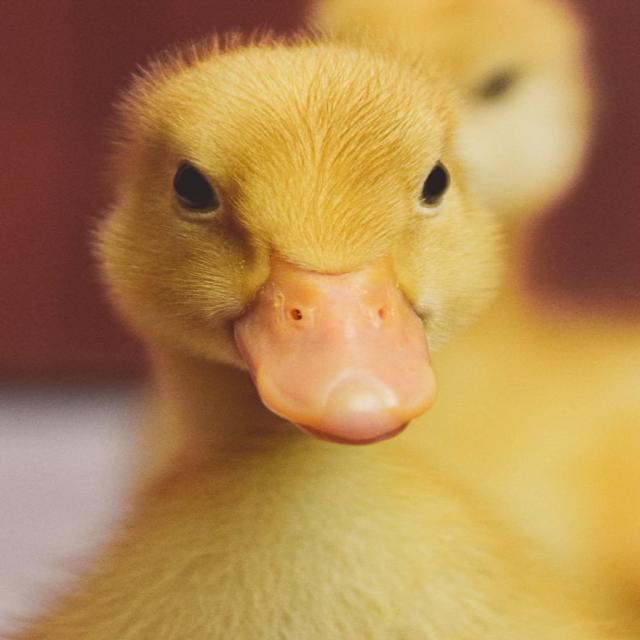Duck: (46, 3, 628, 640)
